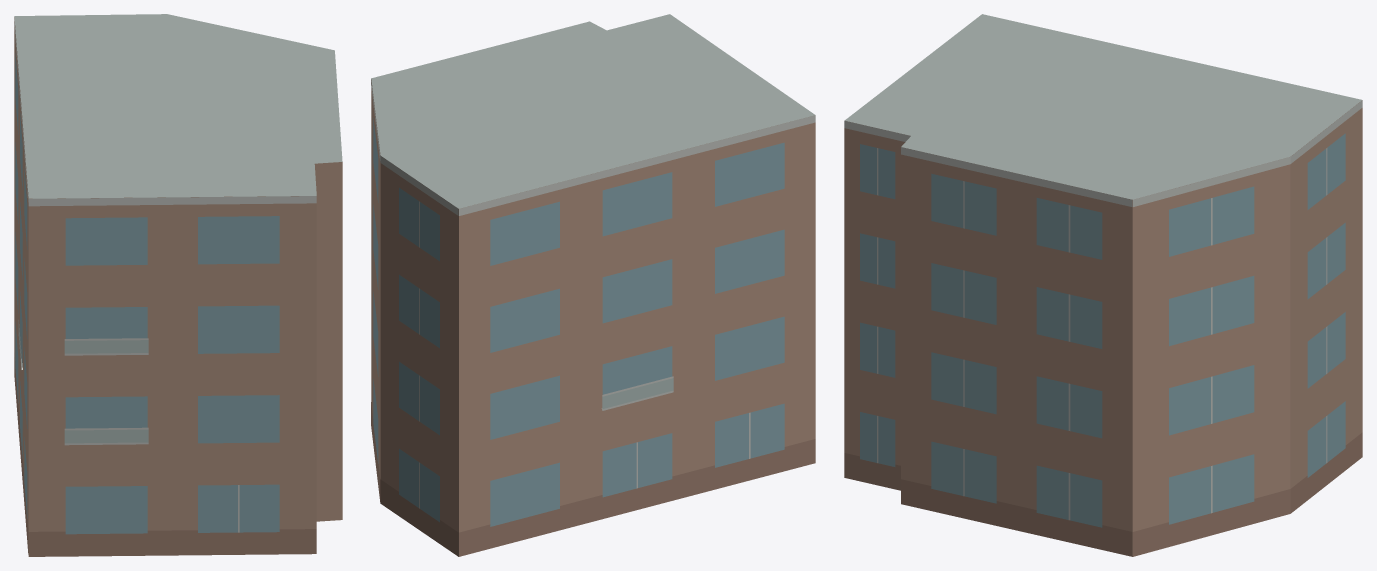
Rendered from survey-upis-32658732.glb.
3 views of the same model, side by side, from view 1: azimuth 30°, elevation 25°; view 2: azimuth 150°, elevation 25°; view 3: azimuth 270°, elevation 25° (orthographic). The views are drawn at different scales.
Parts seen in each view (by area): view 1: survey-upis-32658732.tmp; view 2: survey-upis-32658732.tmp; view 3: survey-upis-32658732.tmp.
Boxes of the visible parts, x1,y1,x2,y2 form: survey-upis-32658732.tmp: [14, 14, 342, 556]; survey-upis-32658732.tmp: [371, 14, 815, 556]; survey-upis-32658732.tmp: [844, 14, 1362, 556].
Bounding box in the file's own units: 12.95 × 11.6 × 15.26.
